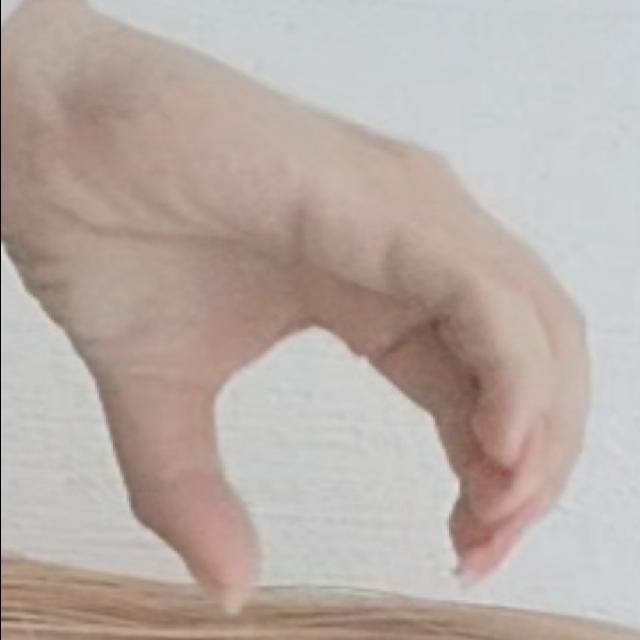C: (2, 15, 594, 622)
